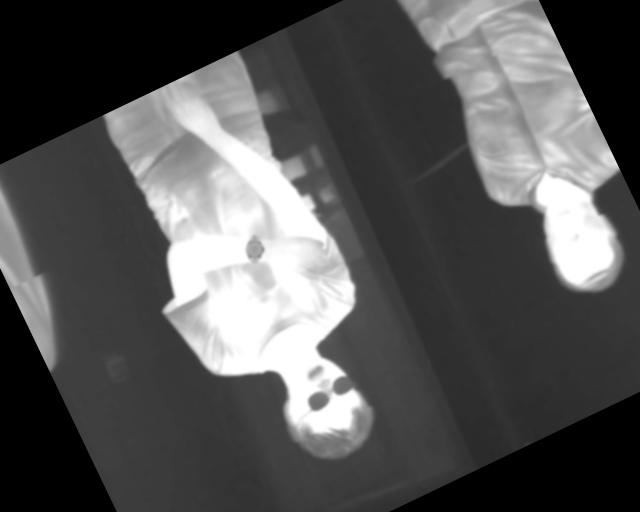face: (261, 338, 389, 477), (525, 177, 639, 307)
